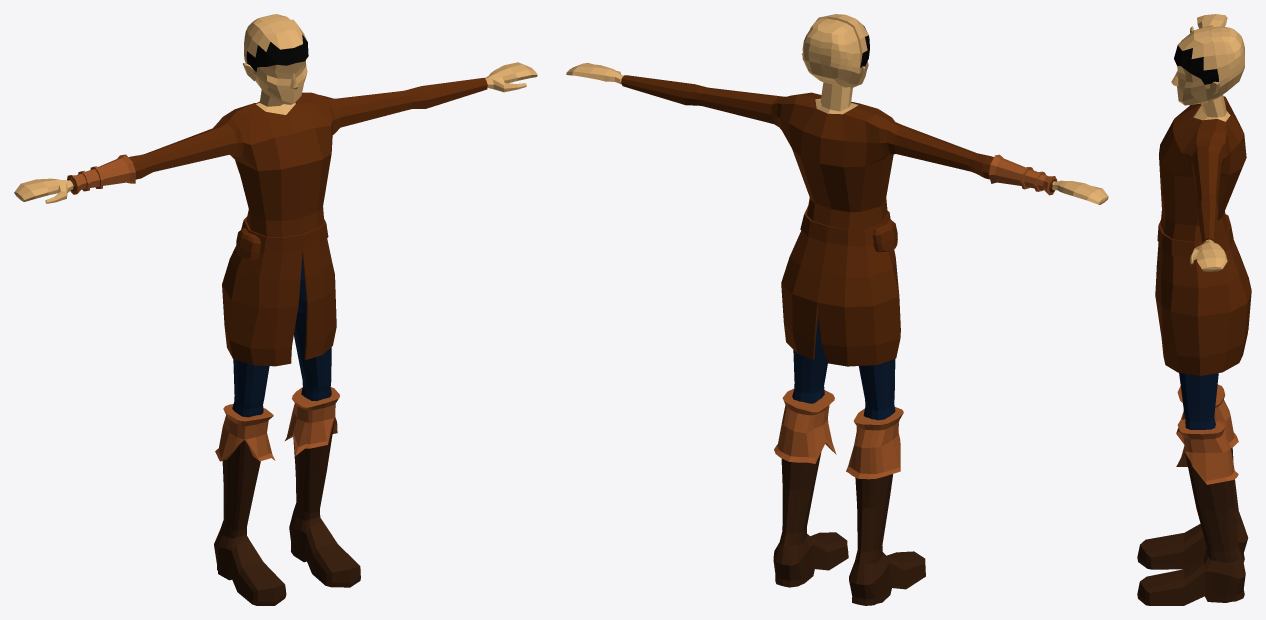
File: Character.fbx
3 views of the same model, side by side, from view 1: azimuth 30°, elevation 25°; view 2: azimuth 150°, elevation 25°; view 3: azimuth 270°, elevation 25° (orthographic). The views are drawn at different scales.
Visible parts, largest first — view 1: polySurface5; view 2: polySurface5; view 3: polySurface5.
Boxes of the visible parts, bbox=[...] form: polySurface5: bbox=[14, 14, 537, 605]; polySurface5: bbox=[566, 14, 1108, 605]; polySurface5: bbox=[1137, 14, 1251, 605].
Size of the model in its own units: 8.42 by 8.57 by 1.61.
